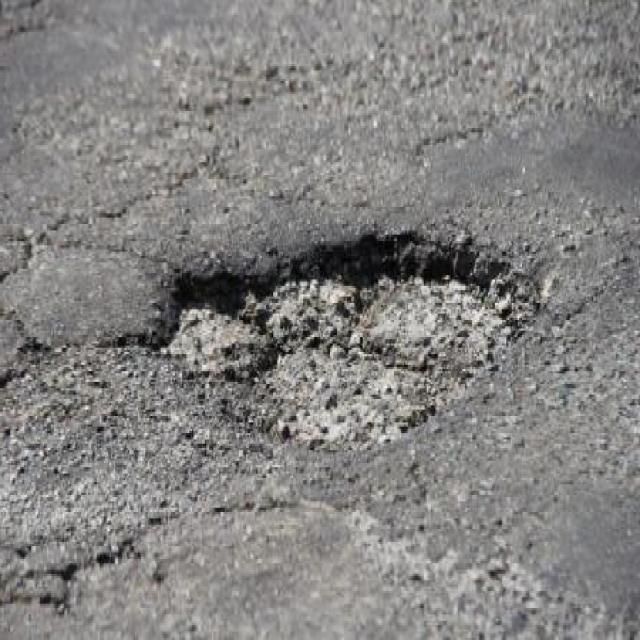pothole: (141, 224, 545, 457)
